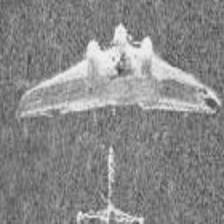plane: (19, 23, 220, 224)
